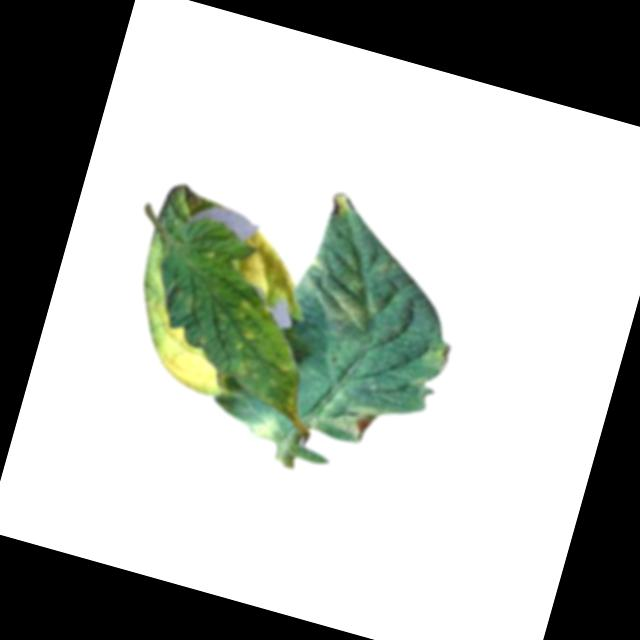Leaf_Mold: (223, 305, 319, 418), (134, 299, 240, 399), (230, 228, 304, 309), (324, 278, 382, 333), (326, 394, 380, 447), (417, 334, 455, 374), (249, 410, 283, 445)
